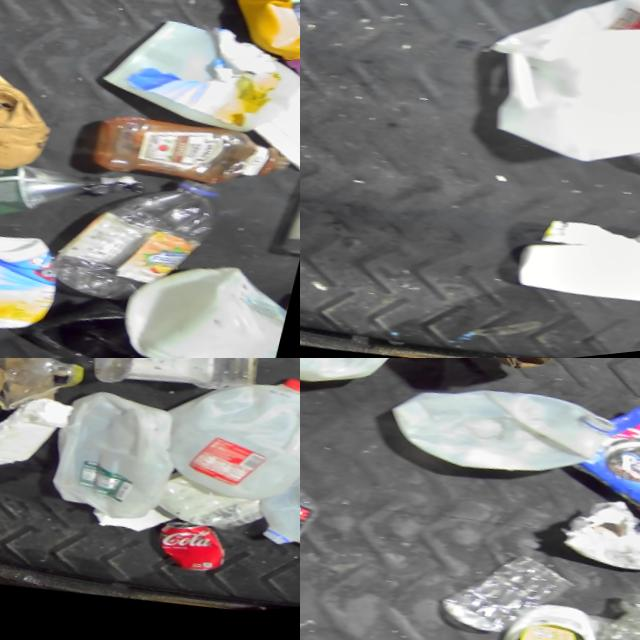can: (150, 518, 240, 585)
milk_jug: (374, 363, 628, 516), (469, 0, 640, 204), (40, 378, 184, 533), (163, 364, 300, 524), (120, 252, 300, 358), (262, 442, 300, 586), (300, 358, 402, 411)
non_white_jug: (215, 0, 300, 110)
plastic_bottle: (58, 158, 239, 328), (300, 472, 335, 640)
